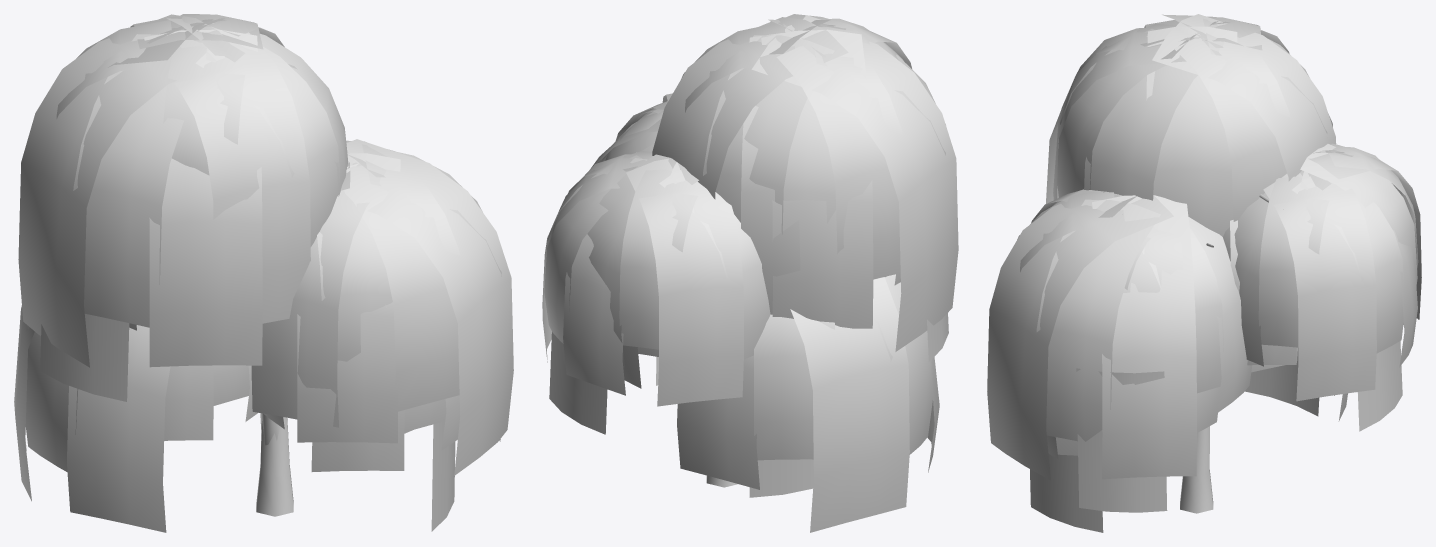
Rendered from STWillow2.glb.
3 renders of one model, left to right at view 1: azimuth 30°, elevation 25°; view 2: azimuth 150°, elevation 25°; view 3: azimuth 270°, elevation 25°, orthographic. The views are drawn at different scales.
Parts seen in each view (by area): view 1: WillowTree2; view 2: WillowTree2; view 3: WillowTree2.
Boxes of the visible parts, left/top/right/bottom form: WillowTree2: left=14, top=14, right=513, bottom=532; WillowTree2: left=542, top=14, right=958, bottom=532; WillowTree2: left=987, top=14, right=1421, bottom=532.
Bounding box in the file's own units: 14.01 × 16.33 × 14.58.
Materials: 2 (1 with a texture image).
